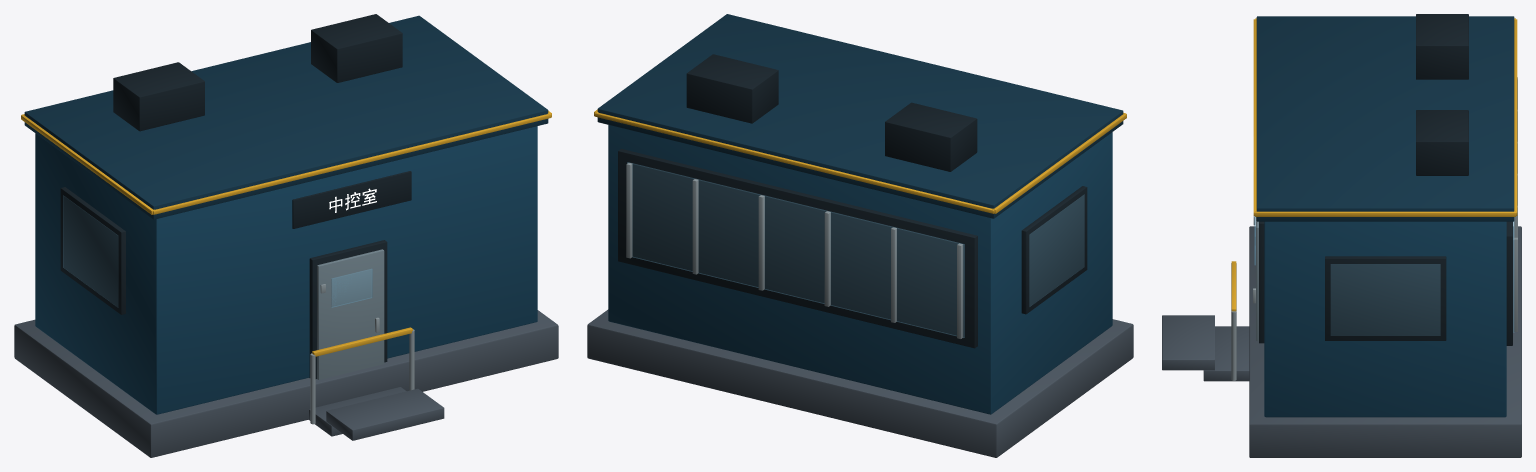
Rendered from control_room_mo.glb.
3 views of the same model, side by side, from view 1: azimuth 30°, elevation 25°; view 2: azimuth 150°, elevation 25°; view 3: azimuth 270°, elevation 25° (orthographic).
Visible parts, largest first — view 1: Asset_control_room; view 2: Asset_control_room; view 3: Asset_control_room.
Part boxes in pixels (x1,y1,x2,y2): Asset_control_room: (14,14,558,457); Asset_control_room: (587,14,1133,457); Asset_control_room: (1162,14,1521,457).
Size of the model in its own units: 6.2 by 4.1 by 4.75.
